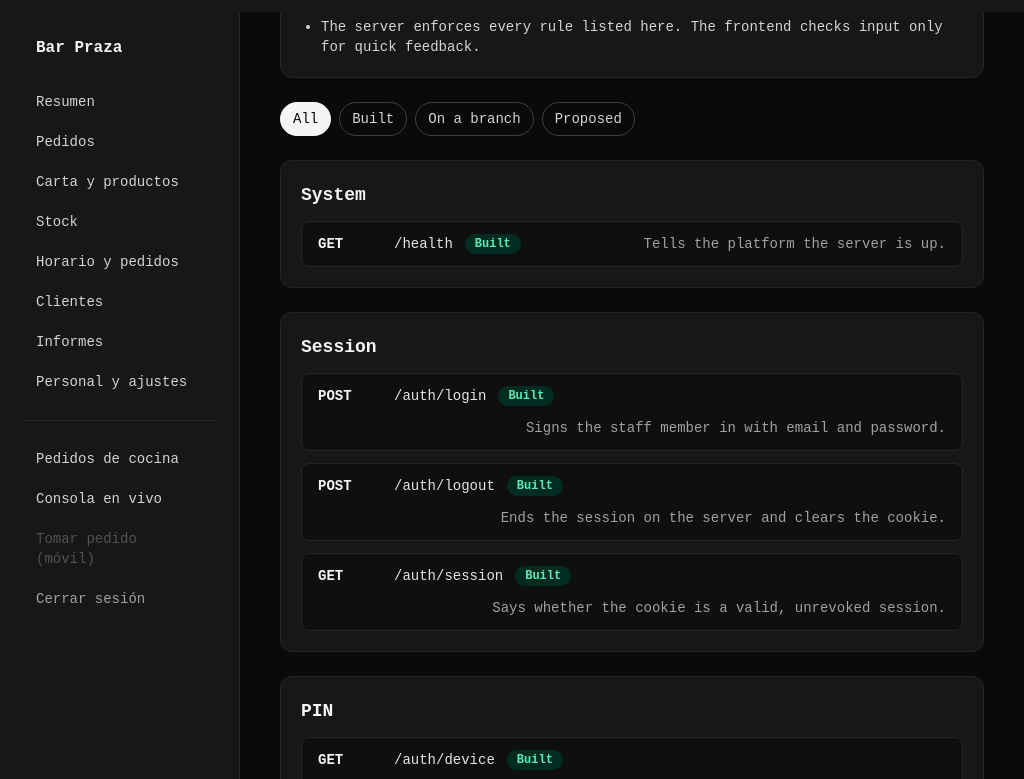
Test: API documentation › shows the rules and errors of an endpoint when it is opened
(page scrolled)
Click the text "/auth/login" at (440, 396), box x1=394 y1=386 x2=486 y2=406
(page scrolled)
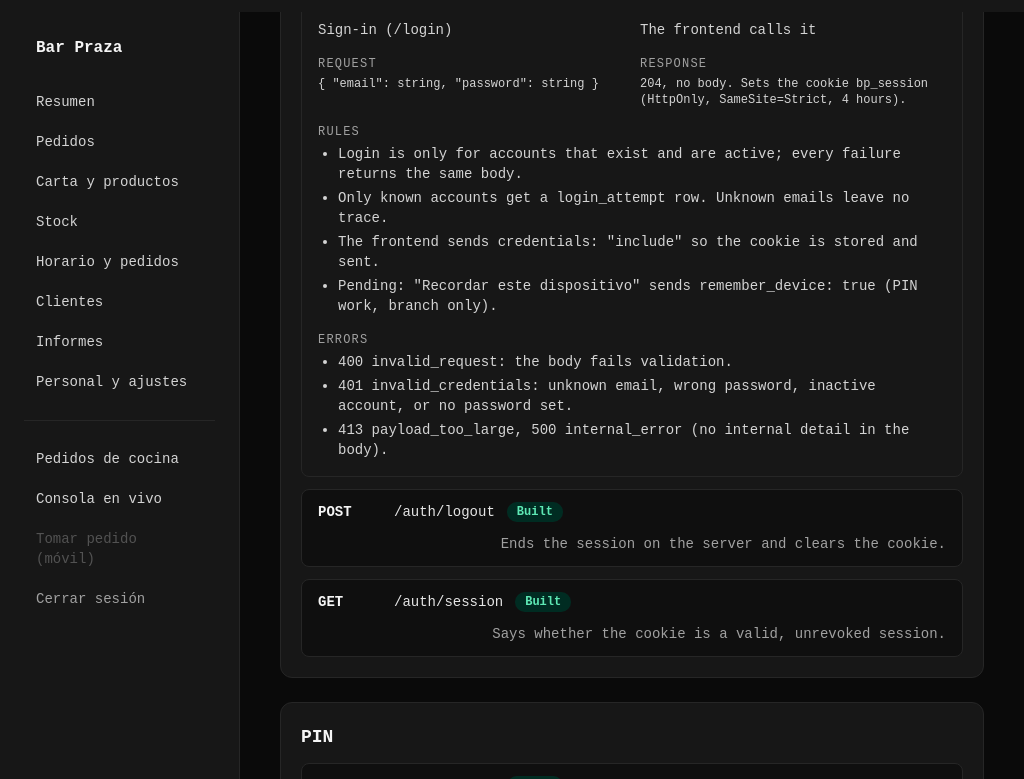
Check: the list item "401 invalid_credentials" is shown, box x1=338 y1=378 x2=876 y2=414
